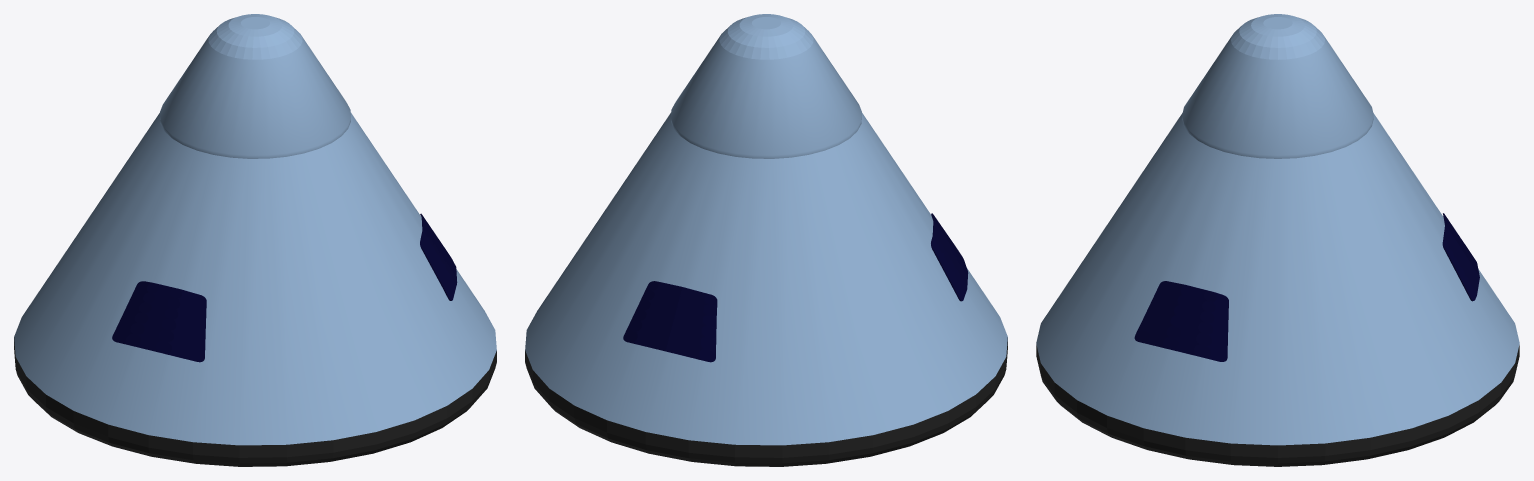
3 views of the same model, side by side, from view 1: azimuth 30°, elevation 25°; view 2: azimuth 150°, elevation 25°; view 3: azimuth 270°, elevation 25° (orthographic).
Parts seen in each view (by area): view 1: capsule, nose_cone, windoiw1, window3; view 2: capsule, nose_cone, window2, windoiw1; view 3: capsule, nose_cone, window3, window2.
Part boxes in pixels (x1,y1,x2,y2): capsule: (14, 112, 496, 466); nose_cone: (160, 14, 350, 158); windoiw1: (112, 281, 206, 362); window3: (420, 213, 457, 300); capsule: (525, 112, 1007, 466); nose_cone: (671, 14, 861, 158); window2: (623, 281, 717, 362); windoiw1: (931, 213, 968, 301); capsule: (1036, 113, 1519, 466); nose_cone: (1182, 14, 1373, 158); window3: (1134, 281, 1228, 361); window2: (1442, 213, 1479, 301).
Size of the model in its own units: 3.6 by 3.03 by 3.6.
